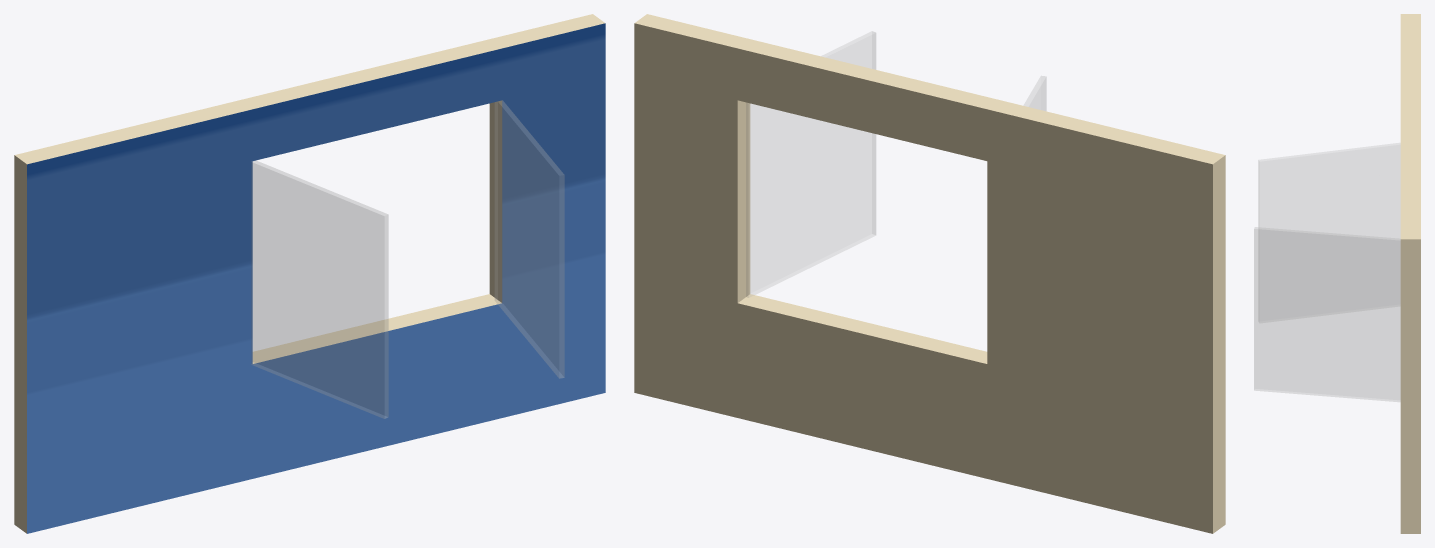
Rendered from bedroom wall window.fbx.
3 views of the same model, side by side, from view 1: azimuth 30°, elevation 25°; view 2: azimuth 150°, elevation 25°; view 3: azimuth 270°, elevation 25° (orthographic). The views are drawn at different scales.
Visible parts, largest first — view 1: Bedroom Window, Window 1, Window 2; view 2: Bedroom Window, Window 2; view 3: Window 2, Window 1, Bedroom Window.
Part boxes in pixels (bbox=[...]): Bedroom Window: bbox=[14, 14, 605, 533]; Window 1: bbox=[251, 160, 388, 418]; Window 2: bbox=[495, 100, 564, 378]; Bedroom Window: bbox=[634, 14, 1225, 533]; Window 2: bbox=[746, 31, 875, 297]; Window 2: bbox=[1254, 227, 1400, 401]; Window 1: bbox=[1258, 143, 1400, 322]; Bedroom Window: bbox=[1400, 14, 1420, 533].
Bounding box in the file's own units: 7295 × 4454 × 2286.
